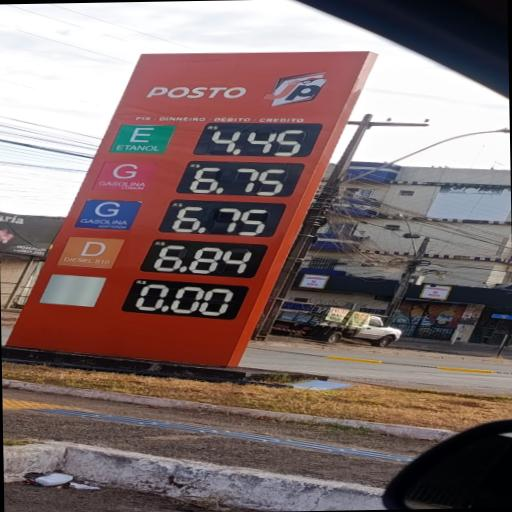ETANOL: (113, 124, 174, 154)
GASOLINA AD: (72, 200, 145, 232)
GASOLINA C: (97, 160, 162, 191)
S10: (58, 236, 124, 269)
placa: (44, 52, 364, 288)
preco: (158, 205, 282, 240), (144, 242, 260, 275), (182, 165, 297, 197), (198, 126, 312, 158)
